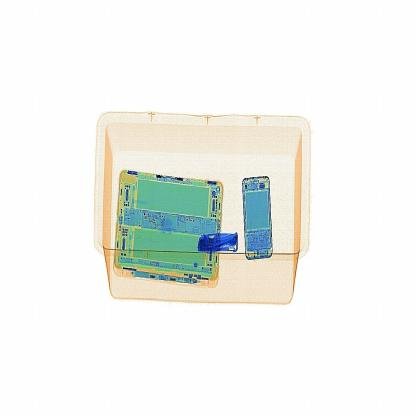knife: (186, 225, 247, 253)
